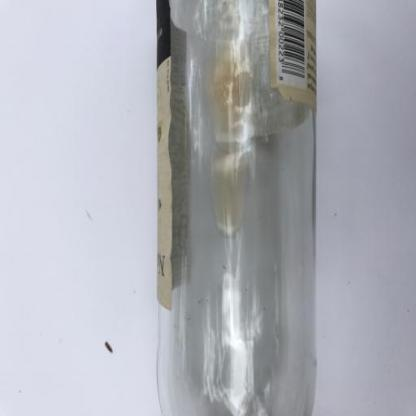trash: (155, 1, 316, 413)
